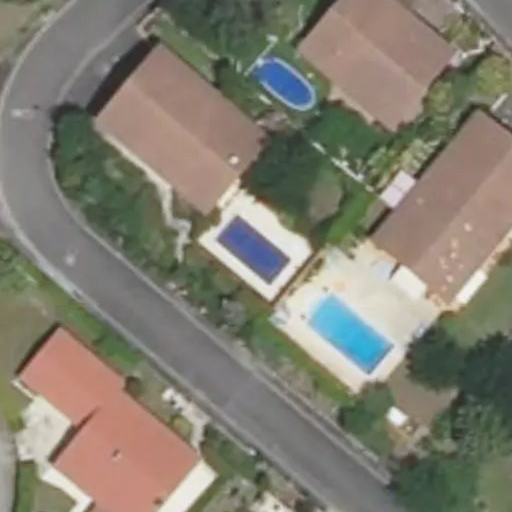pool: (300, 292, 396, 375), (218, 214, 289, 288), (255, 57, 317, 111)
